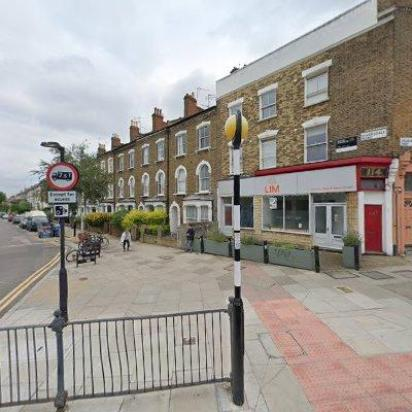stationary-bicycle-onstreet: (77, 232, 109, 250), (64, 246, 94, 260)
stationary-car-onstreet: (12, 213, 22, 223)
stationary-light-truck-onstreet: (27, 210, 49, 232)
